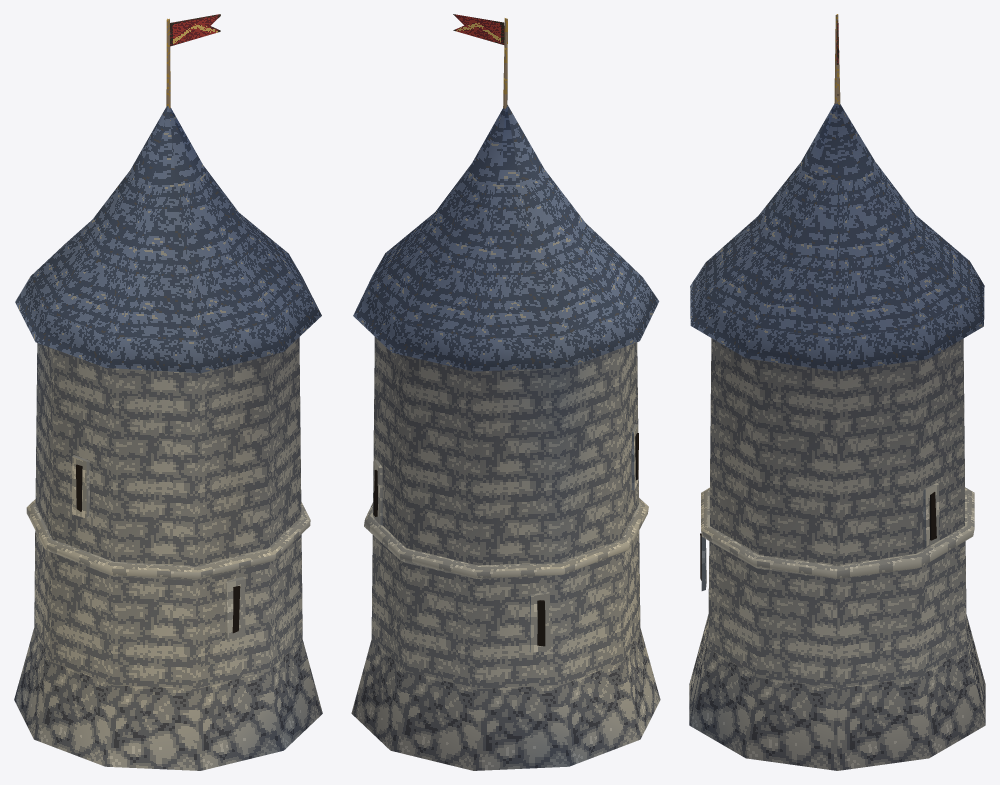
File: cst.tower_round__roofed.glb
The picture shows the model from 3 angles, left to right: view 1: azimuth 30°, elevation 25°; view 2: azimuth 150°, elevation 25°; view 3: azimuth 270°, elevation 25°; orthographic projection.
Visible parts, largest first — view 1: kit_drum, kit_top, kit_detail; view 2: kit_drum, kit_top, kit_detail; view 3: kit_drum, kit_top, kit_detail.
Boxes of the visible parts, box(x1,y1,x2,y2) form: kit_drum: box(14, 337, 322, 770); kit_top: box(15, 106, 321, 373); kit_detail: box(26, 14, 310, 639); kit_drum: box(351, 337, 660, 770); kit_top: box(353, 105, 659, 371); kit_detail: box(364, 14, 648, 652); kit_drum: box(689, 338, 985, 770); kit_top: box(690, 103, 984, 371); kit_detail: box(700, 14, 974, 590).
Bounding box in the file's own units: 6.9 × 16.87 × 6.56.
Materials: 7 (7 with a texture image).
